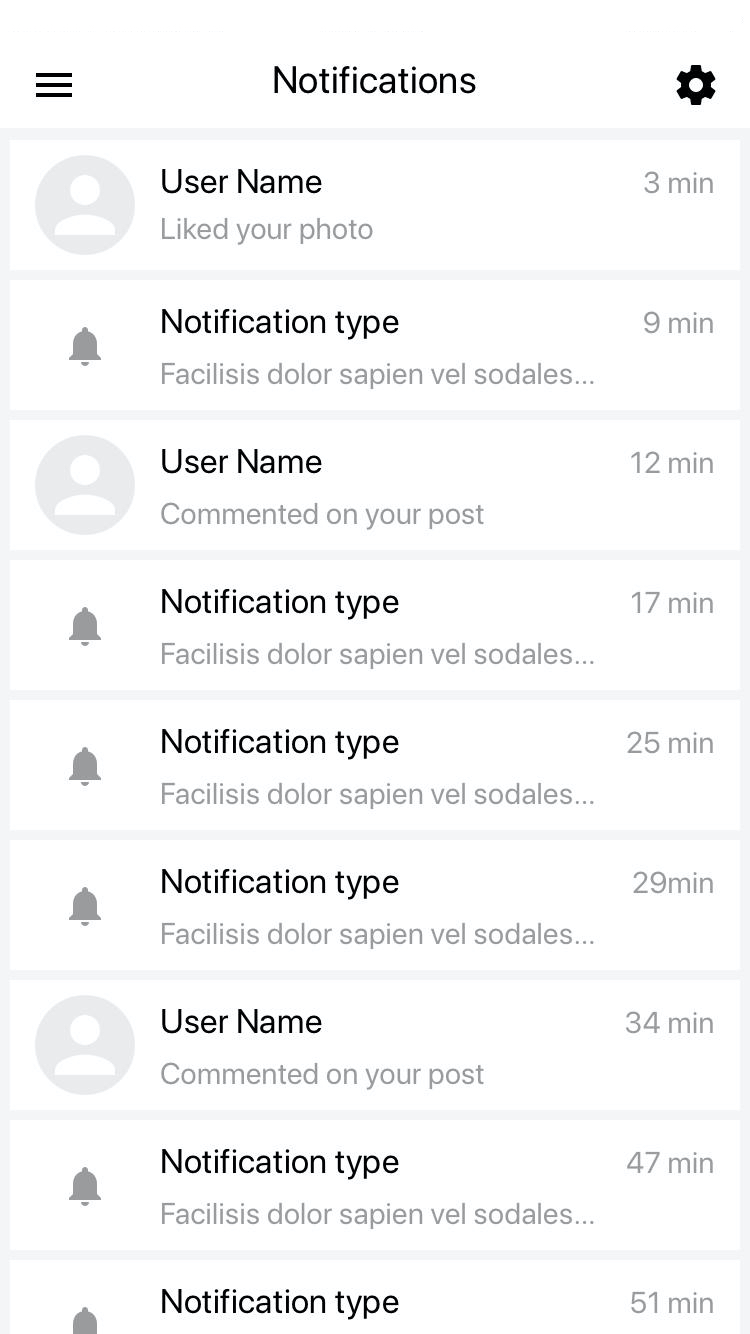Card: (9, 139, 741, 272), (10, 419, 741, 552), (9, 1119, 741, 1251), (9, 839, 741, 971), (10, 980, 741, 1112), (10, 560, 741, 692), (10, 280, 741, 412), (10, 700, 741, 831), (10, 1259, 741, 1334)
Icon: (35, 435, 137, 537), (35, 155, 137, 256), (36, 995, 137, 1096), (676, 65, 716, 107), (68, 746, 103, 787), (69, 327, 103, 369), (69, 886, 103, 927), (69, 1166, 103, 1207), (69, 607, 103, 647), (35, 73, 74, 99), (73, 1306, 98, 1334)
Text: (161, 361, 595, 391), (161, 781, 595, 811), (162, 642, 595, 671), (162, 1201, 595, 1230), (162, 922, 596, 950), (160, 1061, 485, 1091), (161, 502, 485, 532), (161, 727, 400, 761), (161, 867, 399, 901), (162, 1287, 400, 1321), (162, 308, 400, 341), (162, 588, 400, 621), (162, 1148, 400, 1181), (162, 217, 373, 247), (274, 66, 477, 95), (161, 448, 323, 474), (161, 1008, 323, 1034), (162, 169, 323, 195), (624, 1010, 713, 1034), (625, 1150, 714, 1174), (627, 731, 714, 755), (630, 451, 714, 475), (632, 591, 714, 615), (632, 871, 714, 895), (630, 1291, 714, 1314), (644, 171, 714, 196), (643, 311, 714, 335)
